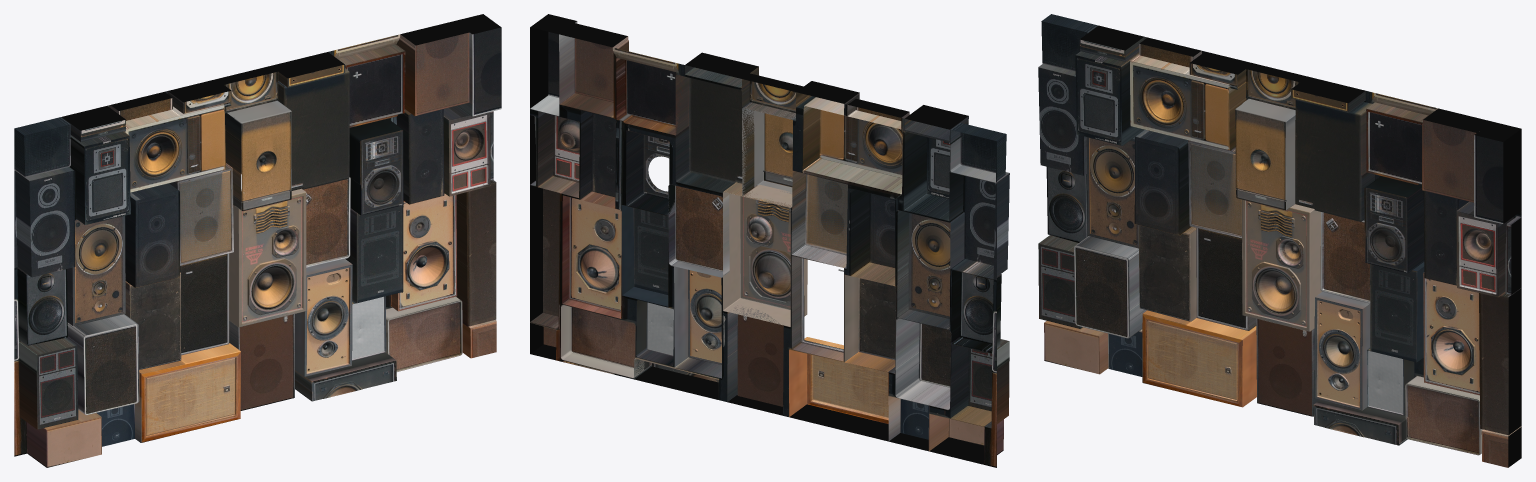
Rendered from speakers big.glb.
3 views of the same model, side by side, from view 1: azimuth 30°, elevation 25°; view 2: azimuth 150°, elevation 25°; view 3: azimuth 330°, elevation 25° (orthographic).
Parts seen in each view (by area): view 1: TexturesCom_AudioEquipment0039_1_XL_0; view 2: TexturesCom_AudioEquipment0039_1_XL_0; view 3: TexturesCom_AudioEquipment0039_1_XL_0.
Part boxes in pixels (x1=…): TexturesCom_AudioEquipment0039_1_XL_0: x1=14, y1=14, x2=501, y2=467; TexturesCom_AudioEquipment0039_1_XL_0: x1=530, y1=14, x2=1009, y2=467; TexturesCom_AudioEquipment0039_1_XL_0: x1=1038, y1=14, x2=1521, y2=467.
Size of the model in its own units: 28.78 by 19.25 by 2.48.
Materials: 3 (3 with a texture image).
